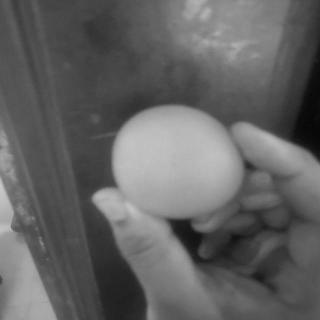Telur: (108, 101, 250, 220)
